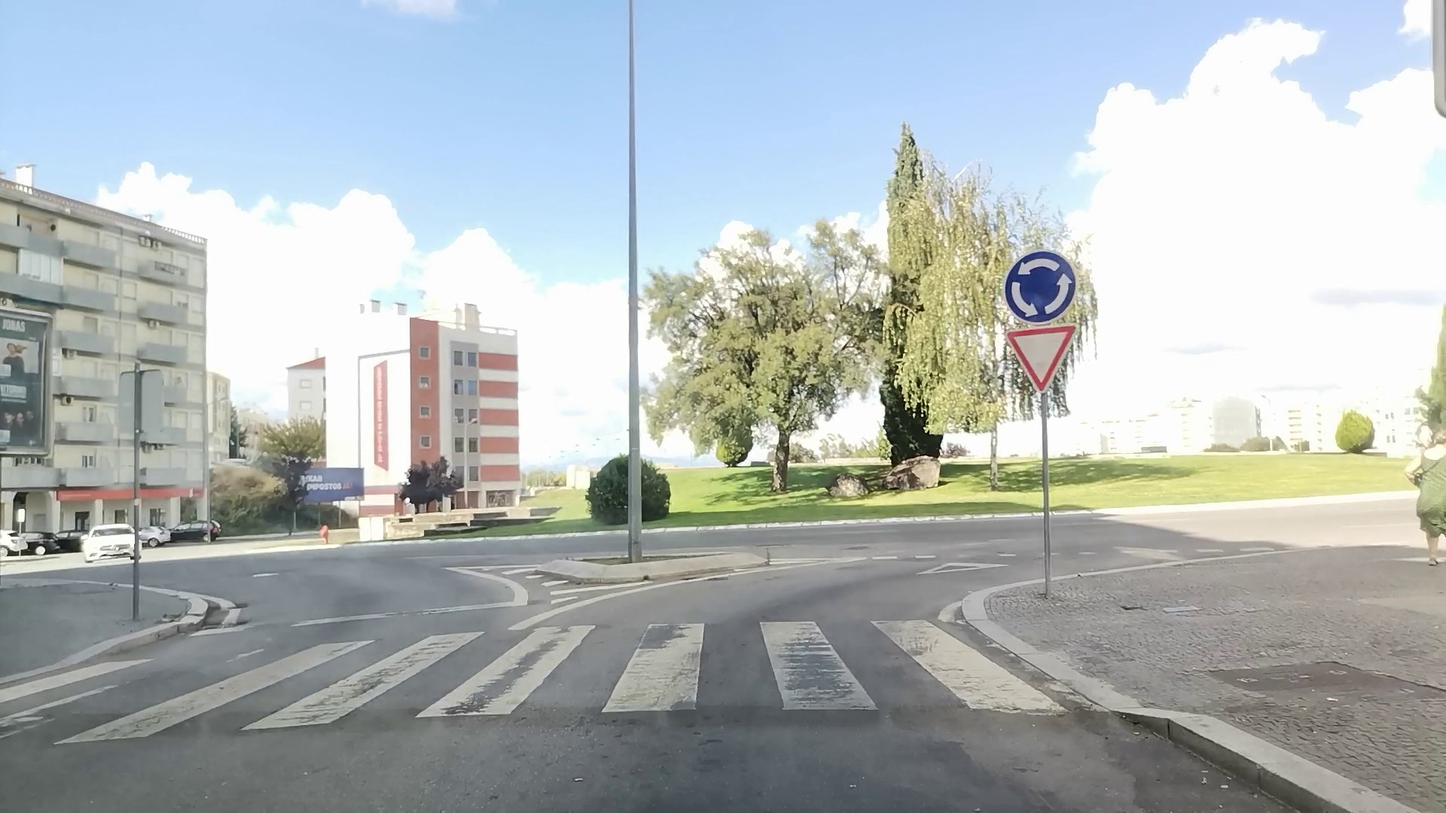Stairs: (0, 616, 1081, 748)
